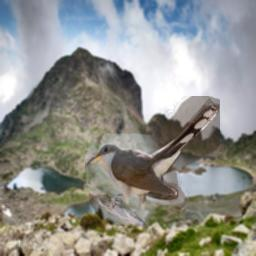Cuckoo: (85, 96, 220, 226)
